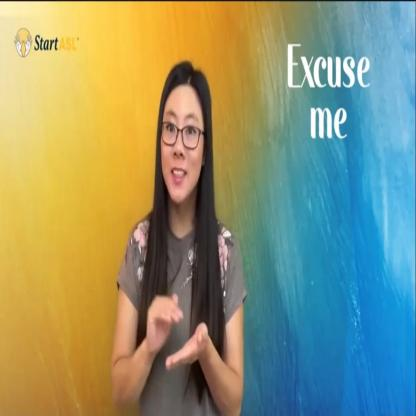ExcuseMe: (135, 282, 209, 378)
